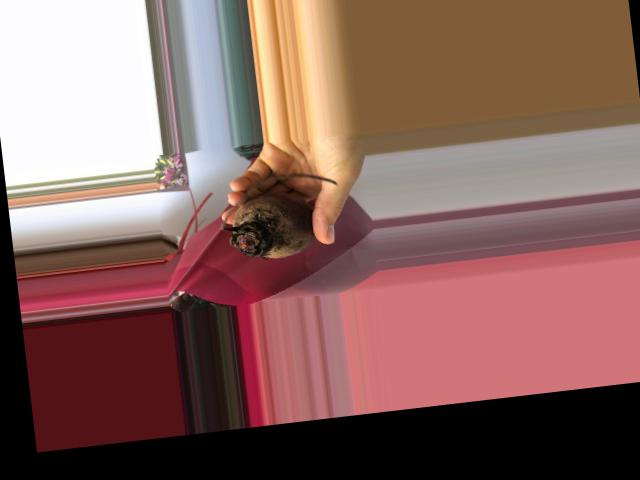beet: (214, 168, 344, 264)
